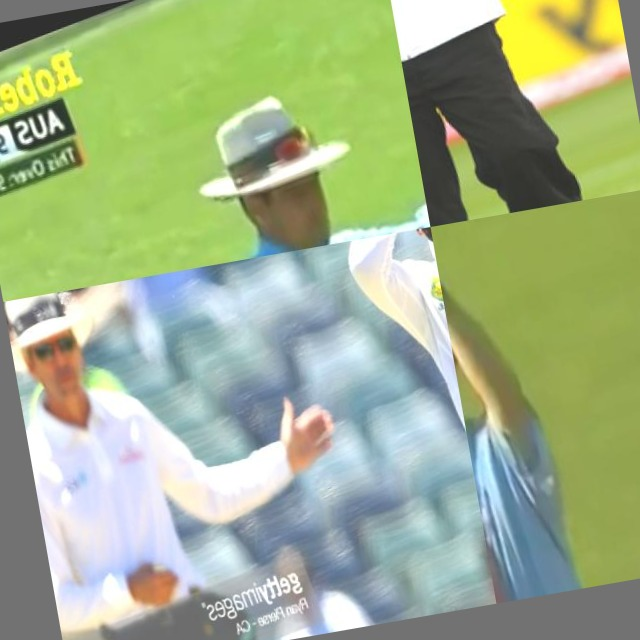No_Ball: (3, 237, 439, 640)
Out: (431, 195, 640, 604)
Six: (383, 0, 640, 227)
Wide: (8, 12, 431, 294)
